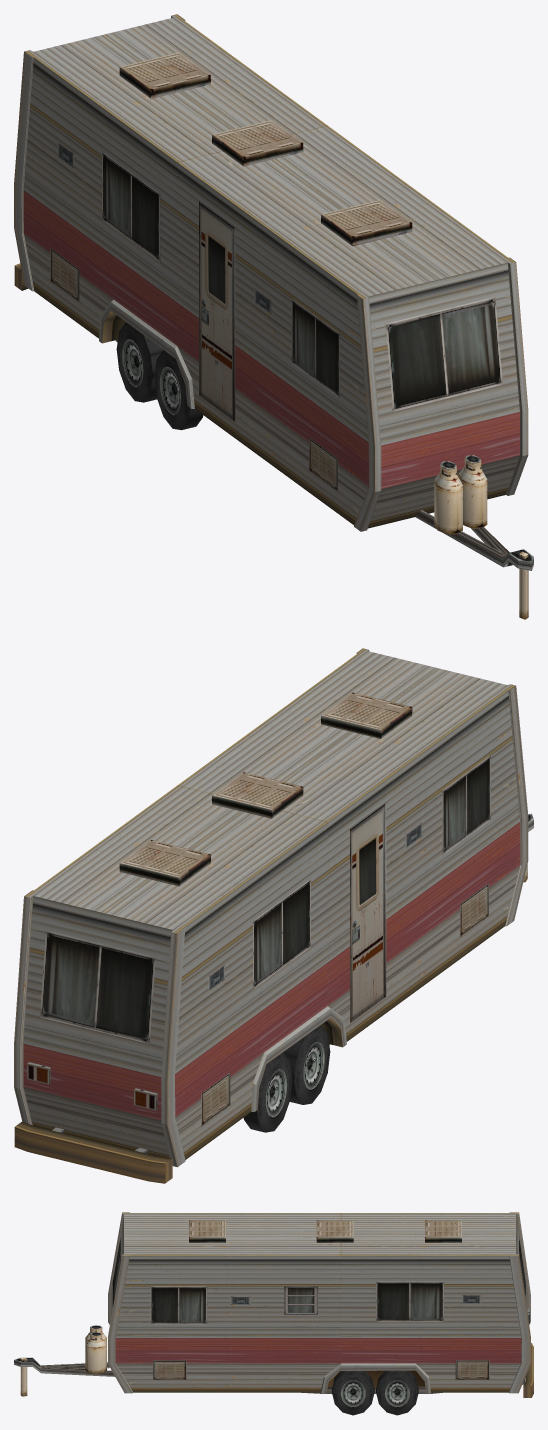
The model's file is rural_trailerh_1_rural_trailer_stuff_1_0_lev2.glb.
3 renders of one model, top to bottom at view 1: azimuth 30°, elevation 25°; view 2: azimuth 150°, elevation 25°; view 3: azimuth 270°, elevation 25°, orthographic. The views are drawn at different scales.
Visible parts, largest first — view 1: rural_trailerh_1_rural_trailer_stuff_1_0_lev2; view 2: rural_trailerh_1_rural_trailer_stuff_1_0_lev2; view 3: rural_trailerh_1_rural_trailer_stuff_1_0_lev2.
Boxes of the visible parts, x1=… form: rural_trailerh_1_rural_trailer_stuff_1_0_lev2: x1=14, y1=14, x2=533, y2=619; rural_trailerh_1_rural_trailer_stuff_1_0_lev2: x1=14, y1=648, x2=533, y2=1183; rural_trailerh_1_rural_trailer_stuff_1_0_lev2: x1=14, y1=1212, x2=533, y2=1415.
Size of the model in its own units: 2.1 by 3.66 by 10.37.
Materials: 1 (1 with a texture image).
